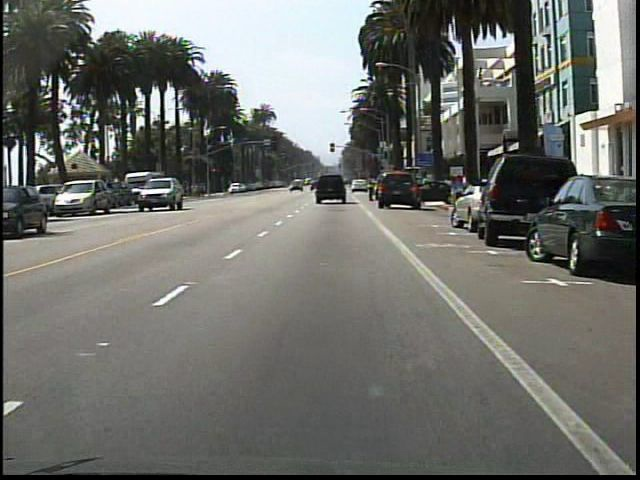person: (364, 173, 381, 204)
